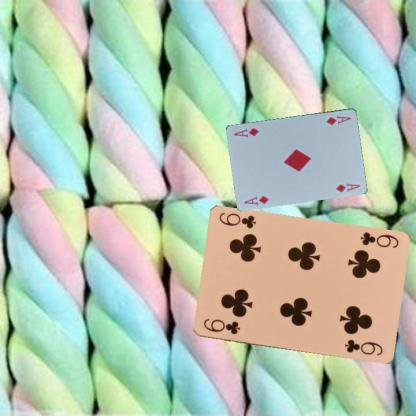6c: (200, 316, 242, 336), (358, 230, 400, 250)
Ad: (323, 113, 352, 126), (241, 193, 270, 206)
